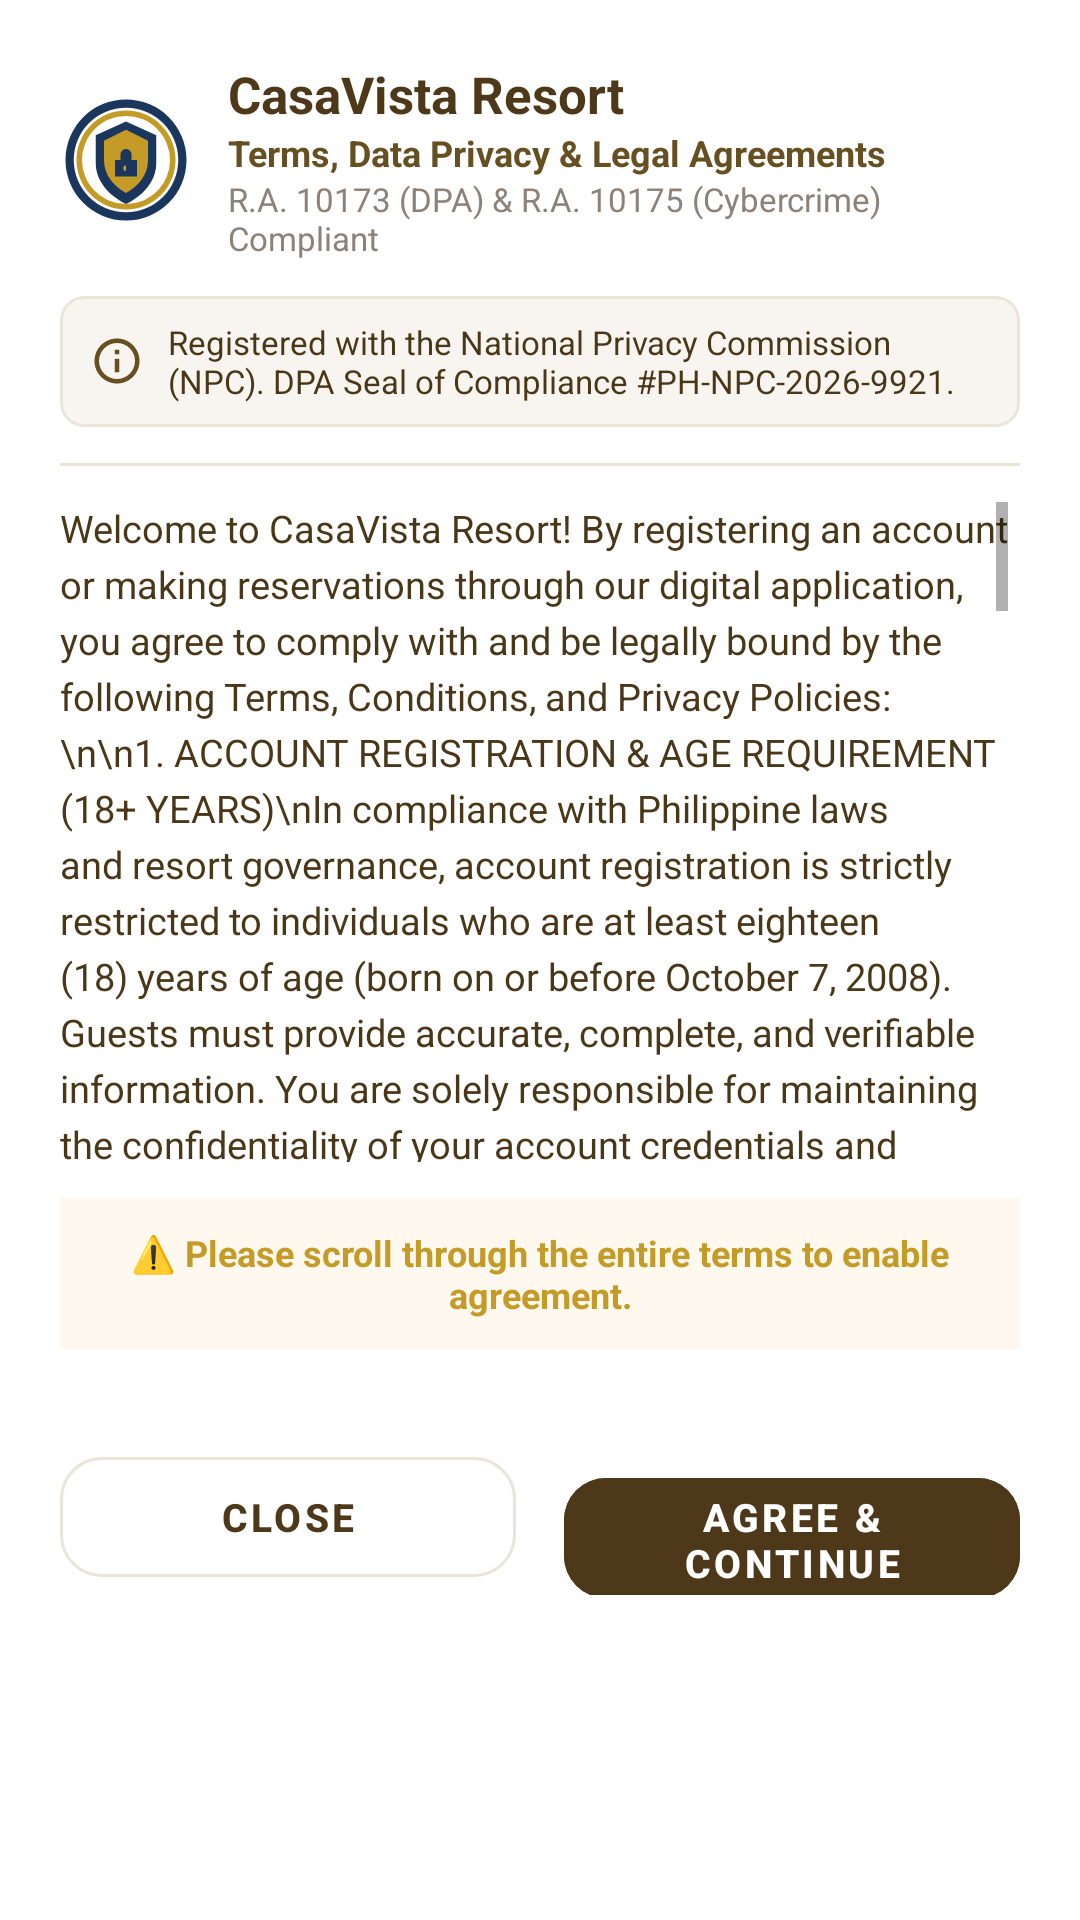

Named icons in this screenshot (1080w x 1920h) and their centers, (x,y):
info: (117,361)
